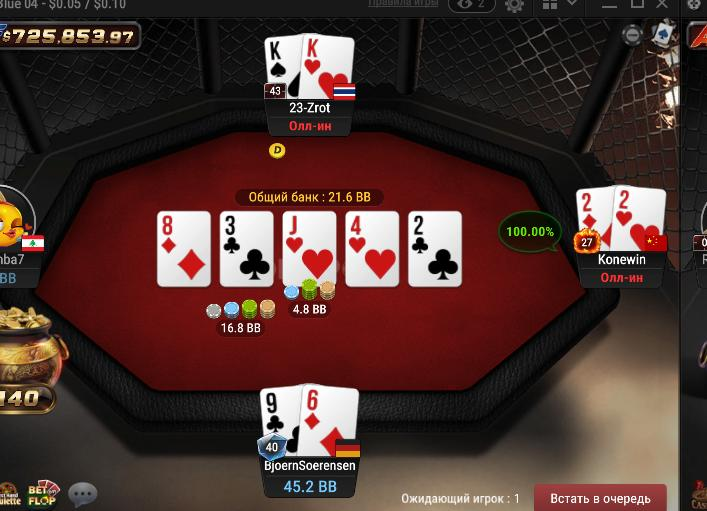2c: (408, 212, 461, 287)
2d: (574, 186, 613, 251)
2h: (613, 185, 667, 251)
3c: (221, 211, 273, 287)
4h: (346, 210, 399, 288)
6d: (300, 383, 357, 457)
8d: (158, 211, 210, 287)
9c: (259, 386, 301, 459)
Jh: (283, 212, 335, 287)
Kh: (301, 32, 353, 97)
Ks: (263, 35, 303, 103)
